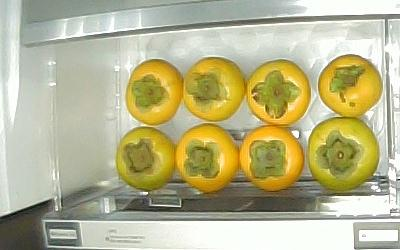persimmon: (306, 117, 380, 191), (174, 123, 239, 192), (246, 58, 311, 125), (240, 124, 303, 191), (183, 56, 246, 122), (318, 54, 383, 116), (125, 58, 183, 125), (115, 126, 174, 191)
